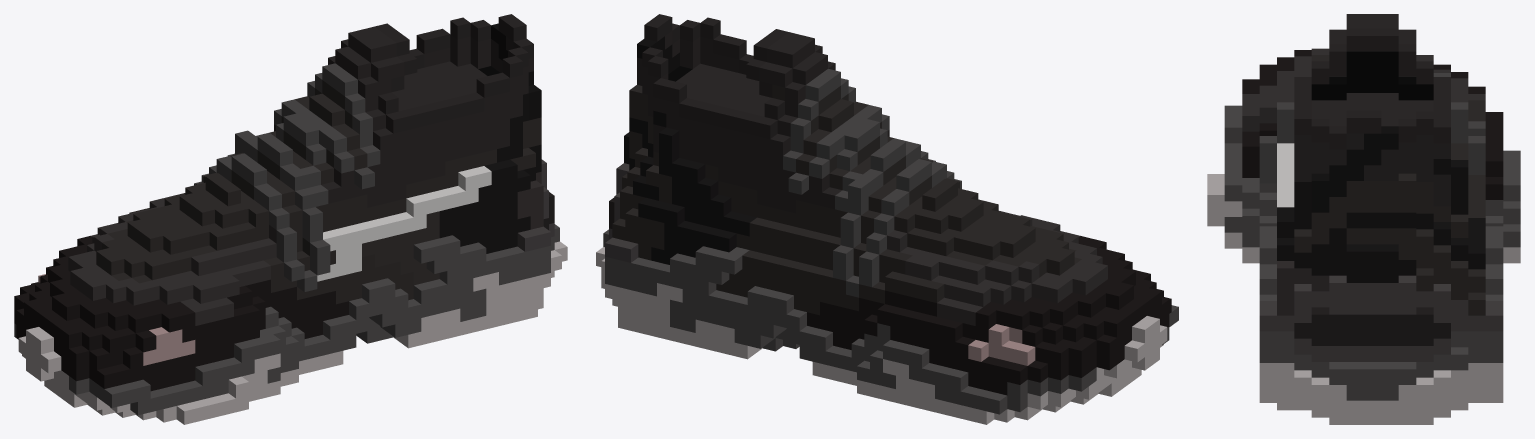
The model's file is Lost Dark.fbx.
3 views of the same model, side by side, from view 1: azimuth 30°, elevation 25°; view 2: azimuth 150°, elevation 25°; view 3: azimuth 270°, elevation 25° (orthographic). The views are drawn at different scales.
Visible parts, largest first — view 1: Untitled; view 2: Untitled; view 3: Untitled.
Part boxes in pixels (x1,y1,x2,y2): Untitled: [14, 14, 567, 424]; Untitled: [596, 14, 1178, 424]; Untitled: [1207, 14, 1520, 424].
Bounding box in the file's own units: 400 × 200 × 180.
